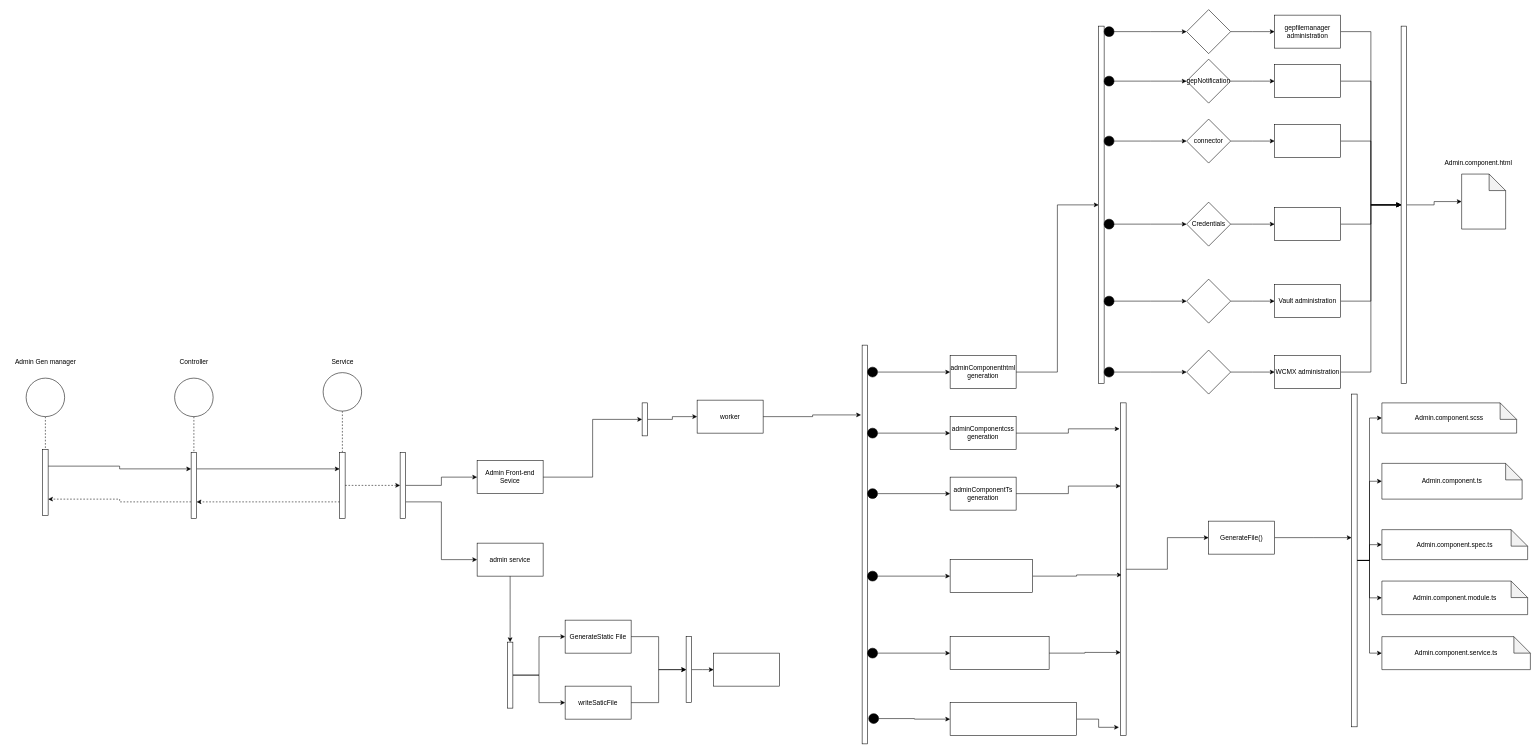
This 1540x754 diagram has some shape labels left out. Here are the shapes that lost their labels. From the top down, the centre of each, then its label:
(1208,31): filemanager
(1307,81): Notification administration
(1307,141): connectorName administration
(1307,224): credentials administration
(1208,301): vault
(1208,372): WCMX
(991,576): adminComponentservice Spec Generation
(746,669): Admin Manager Microservice
(999,653): adminComponentService Generation
(1013,719): adminComponentModule gneration
